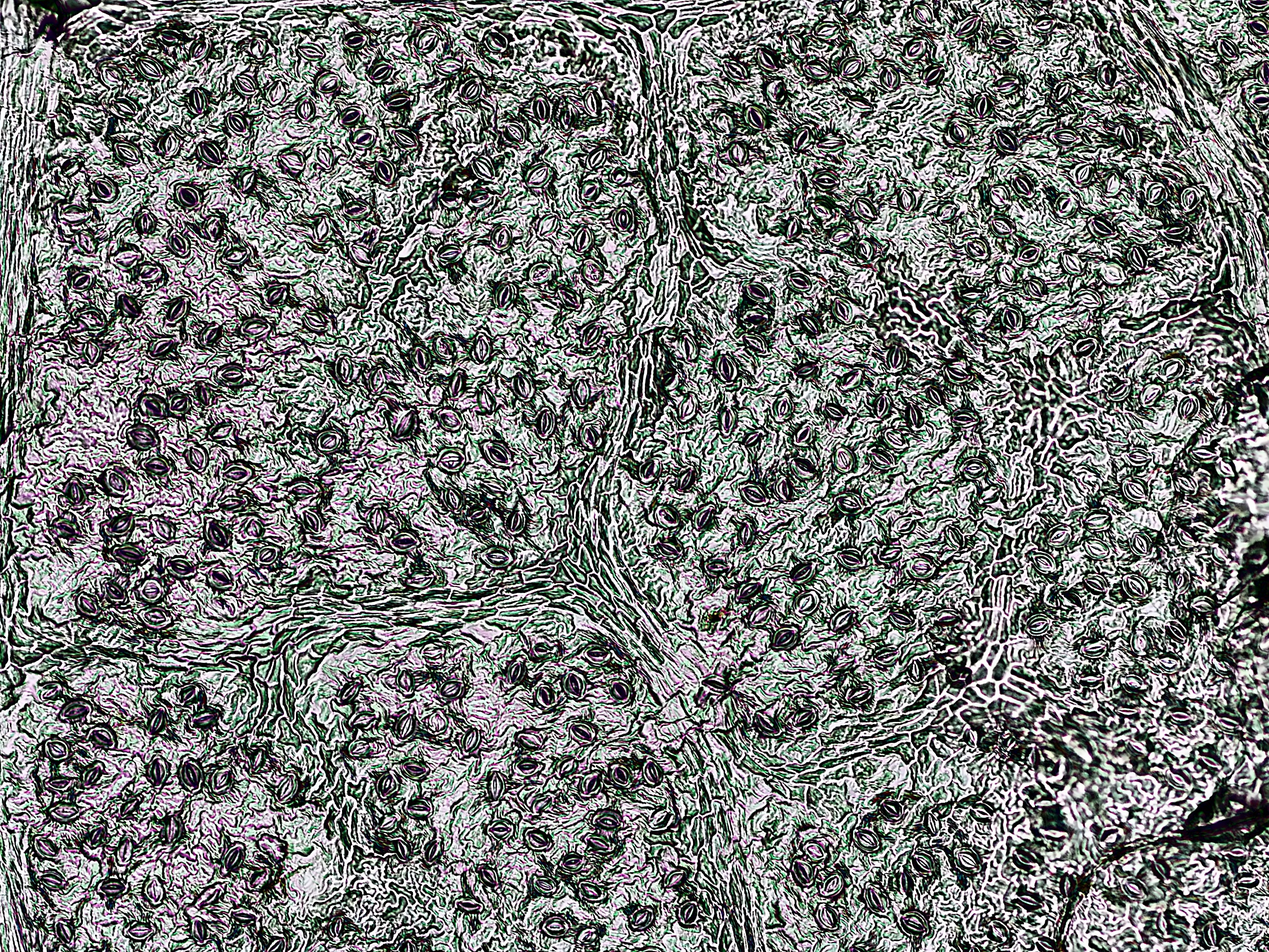stomata: (1006, 844, 1058, 880), (188, 878, 235, 913), (519, 153, 558, 194), (388, 400, 425, 443), (861, 877, 896, 920), (475, 436, 518, 470), (24, 829, 67, 863), (573, 417, 611, 455), (46, 514, 87, 549), (765, 621, 808, 654), (786, 853, 819, 894), (174, 752, 206, 794), (717, 348, 747, 392), (309, 420, 346, 455), (826, 602, 863, 637), (891, 32, 934, 62), (141, 749, 174, 788), (429, 403, 469, 435), (500, 495, 530, 537), (219, 835, 247, 879), (134, 456, 187, 479), (152, 20, 194, 49), (519, 258, 564, 285), (655, 493, 685, 533), (433, 443, 470, 475), (41, 729, 72, 767), (297, 307, 336, 337), (144, 513, 184, 542), (345, 238, 380, 271), (581, 255, 614, 290), (76, 757, 109, 792), (32, 866, 73, 894), (667, 900, 704, 931), (1048, 123, 1086, 153), (338, 192, 378, 220), (1212, 714, 1252, 742), (1022, 546, 1058, 577), (809, 901, 845, 932), (783, 555, 819, 586), (788, 449, 818, 486), (787, 589, 824, 619), (836, 544, 873, 574), (89, 173, 123, 205), (1122, 569, 1154, 603), (173, 180, 204, 215), (89, 876, 136, 899), (101, 94, 141, 121), (944, 114, 974, 150), (197, 213, 234, 242), (131, 55, 169, 83), (469, 152, 501, 185), (553, 280, 586, 312), (125, 426, 169, 450), (823, 293, 857, 324), (576, 639, 615, 666), (113, 289, 148, 319), (738, 478, 773, 508), (398, 751, 434, 780), (483, 816, 519, 845), (257, 283, 294, 311), (159, 810, 186, 848), (142, 870, 169, 908), (386, 529, 427, 554), (569, 715, 602, 746), (533, 678, 563, 712), (807, 164, 842, 193), (899, 907, 934, 936), (217, 242, 259, 266), (94, 63, 130, 91), (363, 57, 399, 85), (196, 139, 227, 171), (949, 9, 982, 39), (53, 700, 96, 723), (44, 801, 87, 824), (627, 898, 656, 932), (534, 404, 558, 445), (1195, 747, 1231, 774), (107, 542, 151, 564), (862, 643, 904, 666), (135, 392, 172, 418), (508, 367, 539, 398), (1123, 473, 1154, 504), (419, 833, 448, 866), (990, 919, 1019, 952), (989, 29, 1022, 58), (1198, 57, 1227, 90), (238, 311, 273, 338), (573, 368, 594, 413), (1021, 611, 1056, 638), (214, 364, 255, 387), (146, 336, 182, 362), (188, 913, 214, 949), (483, 766, 509, 802), (577, 321, 608, 351), (1083, 570, 1114, 600), (271, 773, 301, 804), (294, 507, 326, 536), (843, 680, 875, 709), (116, 793, 148, 822), (407, 338, 432, 375), (60, 204, 102, 226), (831, 491, 871, 514), (103, 515, 143, 538), (848, 826, 882, 853), (74, 305, 112, 329), (1071, 288, 1109, 312), (1178, 181, 1204, 216), (340, 739, 381, 761), (193, 377, 223, 407), (1161, 616, 1191, 646), (1155, 223, 1200, 243), (57, 151, 87, 181), (1210, 648, 1235, 684), (168, 552, 200, 580), (209, 562, 236, 595), (88, 724, 121, 751), (741, 276, 774, 303), (1079, 636, 1112, 663), (799, 835, 832, 862), (1080, 534, 1113, 561), (135, 204, 159, 241), (224, 460, 258, 486), (1235, 868, 1269, 894), (773, 385, 796, 423), (819, 401, 857, 424), (741, 329, 771, 358), (1057, 250, 1087, 279), (1100, 257, 1130, 286), (204, 517, 232, 548), (136, 574, 167, 602), (206, 765, 237, 793), (1121, 873, 1152, 901), (1166, 763, 1194, 794), (911, 552, 942, 580), (534, 210, 565, 238), (528, 790, 559, 818), (435, 328, 459, 364), (833, 443, 860, 475), (579, 175, 605, 208), (734, 516, 760, 549), (1120, 670, 1153, 696), (1073, 669, 1112, 691), (652, 538, 689, 561), (480, 545, 517, 568), (537, 915, 574, 938), (382, 91, 419, 114), (865, 446, 902, 469), (678, 330, 703, 364), (878, 59, 903, 93), (591, 805, 625, 830), (162, 293, 192, 321), (196, 319, 226, 347), (608, 676, 636, 706), (405, 567, 440, 591), (335, 677, 365, 705), (1018, 890, 1053, 914), (1096, 60, 1120, 95), (990, 125, 1020, 153), (1143, 173, 1167, 208), (1014, 242, 1044, 270), (952, 846, 983, 873), (516, 724, 547, 751), (297, 38, 328, 65), (575, 925, 606, 952), (472, 328, 494, 366), (115, 831, 137, 869), (718, 57, 750, 83), (836, 53, 868, 79), (186, 85, 212, 117), (476, 382, 499, 418), (206, 420, 239, 445), (844, 90, 877, 115), (584, 830, 617, 855), (738, 308, 777, 329), (31, 681, 74, 700), (780, 214, 808, 243), (883, 343, 910, 373), (524, 825, 554, 852), (1176, 391, 1203, 421), (184, 443, 210, 474), (751, 43, 782, 69), (405, 795, 436, 821), (963, 452, 994, 478), (643, 448, 666, 483), (658, 865, 693, 888), (86, 818, 111, 850), (679, 392, 703, 425), (703, 552, 736, 576), (345, 709, 381, 731), (577, 879, 610, 903), (108, 244, 144, 266), (874, 542, 907, 566), (1168, 562, 1192, 595), (906, 5, 939, 29), (391, 123, 420, 150), (1099, 824, 1128, 851), (753, 707, 782, 734), (988, 183, 1017, 210), (108, 465, 131, 499), (504, 653, 527, 687), (986, 216, 1020, 239), (370, 359, 390, 398), (584, 82, 604, 121), (168, 229, 193, 260), (801, 57, 832, 82), (113, 142, 144, 167), (1090, 213, 1121, 238), (334, 352, 356, 387), (931, 602, 963, 626), (238, 164, 261, 197), (811, 19, 844, 42), (101, 577, 129, 604), (795, 311, 823, 338), (423, 708, 451, 735), (246, 864, 273, 892), (676, 463, 702, 492), (838, 368, 867, 394), (159, 132, 184, 162), (1129, 241, 1154, 271), (907, 398, 929, 432), (377, 763, 399, 797), (973, 90, 995, 124), (1058, 186, 1080, 220), (531, 872, 562, 896), (927, 59, 951, 90), (1227, 844, 1266, 863), (449, 364, 469, 401), (951, 408, 988, 428), (141, 257, 164, 289), (1010, 178, 1042, 201), (277, 155, 312, 176), (889, 606, 916, 633), (246, 35, 273, 62), (610, 206, 638, 232), (564, 673, 592, 699), (187, 33, 213, 61), (784, 268, 813, 293), (1000, 303, 1025, 332), (1116, 127, 1145, 152), (718, 402, 738, 438), (796, 357, 826, 381), (136, 610, 176, 628), (127, 919, 157, 943), (533, 90, 553, 126), (791, 705, 822, 728), (881, 426, 912, 449), (1127, 445, 1158, 468), (249, 743, 272, 774), (374, 155, 396, 187), (493, 222, 515, 254), (581, 766, 603, 798), (943, 360, 975, 382), (1127, 629, 1153, 656), (963, 237, 989, 264), (695, 505, 720, 533), (609, 761, 634, 789), (482, 28, 510, 53), (490, 283, 519, 307), (880, 793, 904, 822), (1157, 355, 1186, 379), (1027, 14, 1060, 35), (895, 869, 916, 902), (146, 706, 169, 736), (373, 810, 403, 833), (560, 850, 590, 873), (295, 95, 318, 125), (265, 76, 288, 106), (466, 187, 497, 209), (366, 504, 388, 535), (569, 225, 595, 251), (782, 31, 808, 57), (1108, 377, 1134, 403), (855, 194, 880, 221), (763, 76, 788, 103), (440, 677, 467, 702), (224, 112, 251, 137), (1125, 732, 1152, 757), (437, 241, 465, 265), (174, 679, 202, 703), (745, 101, 769, 129), (910, 851, 938, 875), (395, 712, 419, 740), (416, 26, 440, 54), (1022, 275, 1050, 299), (1084, 511, 1116, 532), (1157, 651, 1185, 675), (1102, 168, 1126, 196), (1043, 524, 1073, 546), (733, 577, 766, 597), (316, 209, 332, 250), (1188, 593, 1219, 614), (55, 919, 76, 950), (703, 669, 734, 690), (823, 872, 848, 898), (234, 73, 260, 98), (502, 120, 527, 146), (1130, 529, 1154, 556), (1167, 707, 1201, 726), (727, 138, 750, 166), (78, 228, 101, 256), (994, 77, 1026, 97), (191, 706, 220, 728), (790, 123, 812, 152), (1055, 75, 1077, 104), (527, 638, 562, 656), (478, 477, 513, 495), (909, 654, 927, 689), (897, 183, 918, 213), (335, 108, 372, 125), (944, 525, 968, 551), (583, 142, 607, 168), (437, 187, 464, 210), (461, 722, 481, 753), (396, 665, 416, 696), (316, 142, 336, 173), (967, 803, 998, 823), (642, 759, 664, 787), (42, 774, 76, 792), (745, 606, 779, 624), (817, 132, 847, 152), (464, 71, 484, 101), (1202, 919, 1222, 949), (1142, 382, 1165, 408), (933, 200, 959, 223), (323, 581, 356, 599), (172, 389, 193, 417), (317, 72, 345, 93), (341, 30, 369, 51), (964, 308, 992, 329), (1191, 441, 1219, 462), (827, 224, 856, 244), (326, 913, 346, 942), (418, 643, 450, 661), (649, 806, 671, 832), (1073, 335, 1099, 357), (976, 485, 1006, 504), (796, 421, 817, 448), (76, 269, 103, 290), (873, 390, 893, 418), (349, 128, 377, 148), (434, 56, 462, 76), (76, 592, 100, 615), (516, 754, 541, 776), (892, 511, 917, 533), (1211, 541, 1233, 566), (1220, 35, 1242, 60), (442, 487, 463, 513), (1115, 705, 1154, 719), (466, 507, 493, 527), (455, 896, 485, 914), (925, 381, 945, 408), (715, 109, 737, 133), (479, 863, 500, 888), (1176, 474, 1202, 494), (244, 519, 270, 539), (67, 476, 84, 506), (393, 834, 411, 862), (1174, 527, 1198, 548), (1078, 162, 1099, 186), (1036, 931, 1060, 952), (1064, 868, 1079, 900), (812, 201, 837, 220), (289, 480, 318, 496), (922, 813, 943, 835), (855, 237, 875, 260), (558, 755, 578, 778), (1246, 92, 1269, 112), (230, 908, 260, 923), (216, 499, 250, 512), (743, 429, 764, 450), (1248, 16, 1269, 37), (86, 340, 106, 362), (1215, 457, 1235, 478), (610, 166, 631, 186), (563, 108, 580, 131), (262, 937, 288, 952), (258, 547, 279, 565), (777, 480, 794, 502), (1254, 59, 1269, 82), (1246, 0, 1269, 11)
